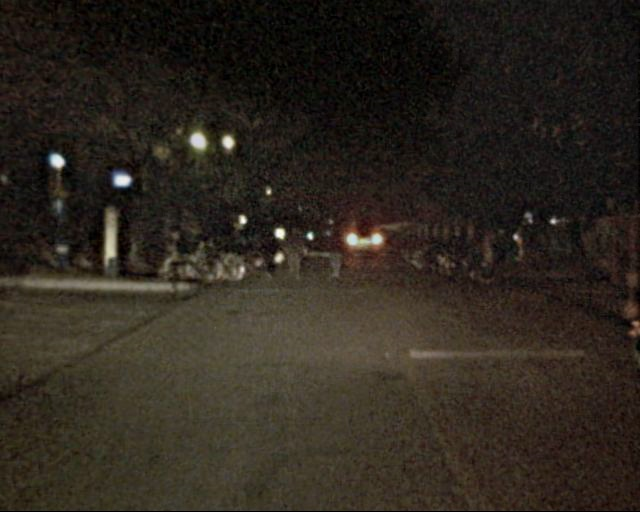person: (164, 229, 193, 295), (325, 221, 347, 282), (252, 218, 275, 273), (283, 229, 306, 283)
